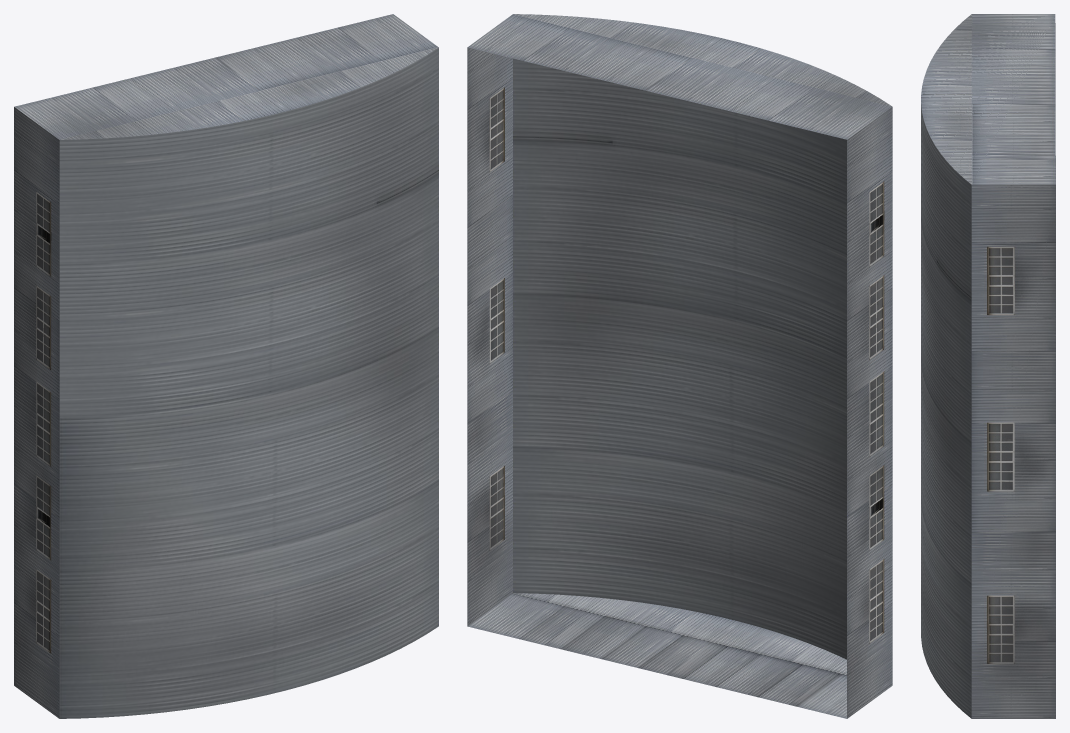
File: hangar.glb
The picture shows the model from 3 angles, left to right: view 1: azimuth 30°, elevation 25°; view 2: azimuth 150°, elevation 25°; view 3: azimuth 270°, elevation 25°; orthographic projection. The views are drawn at different scales.
Visible parts, largest first — view 1: Hangar; view 2: Hangar; view 3: Hangar.
Part boxes in pixels (x1=…): Hangar: x1=14, y1=14, x2=438, y2=718; Hangar: x1=467, y1=14, x2=892, y2=718; Hangar: x1=921, y1=14, x2=1055, y2=718.
Bounding box in the file's own units: 24 × 35 × 8.01.
Materials: 1 (1 with a texture image).
